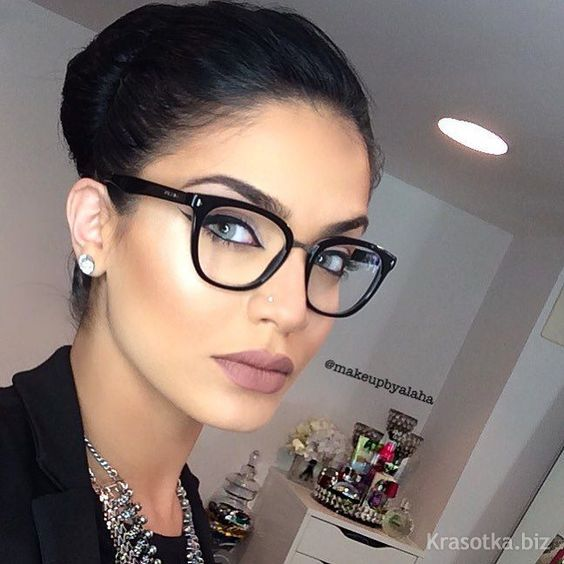glasses: (141, 172, 403, 324)
